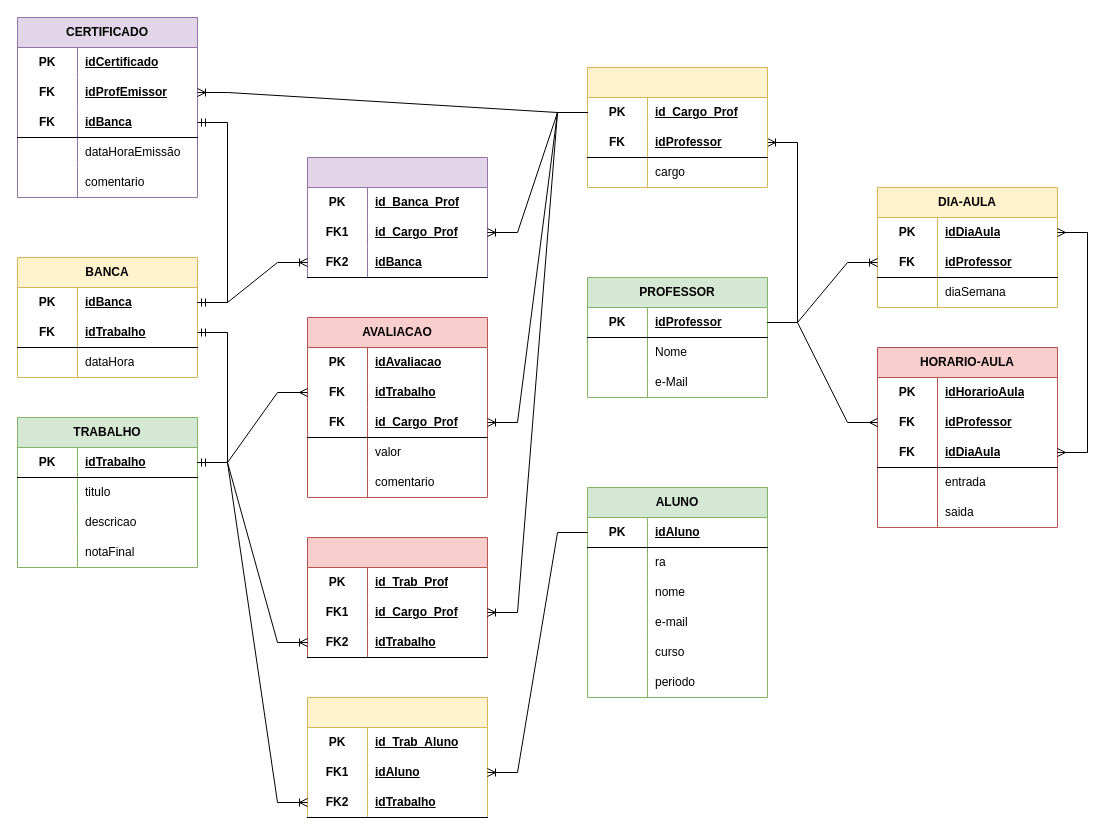
Some shapes in this 1114 by 835 pixel diagram are drawn without their labels. The shapes that lost their labels are listed below. From the top down, each one's box as (x1, y1, x2, y2) in pixels, then its label:
(586, 66, 768, 188): CARGO_PROFESSOR
(306, 156, 488, 278): BANCA-PROFESSOR
(306, 536, 488, 658): TRABALHO-PROFESSOR
(306, 696, 488, 818): TRABALHO-ALUNO
